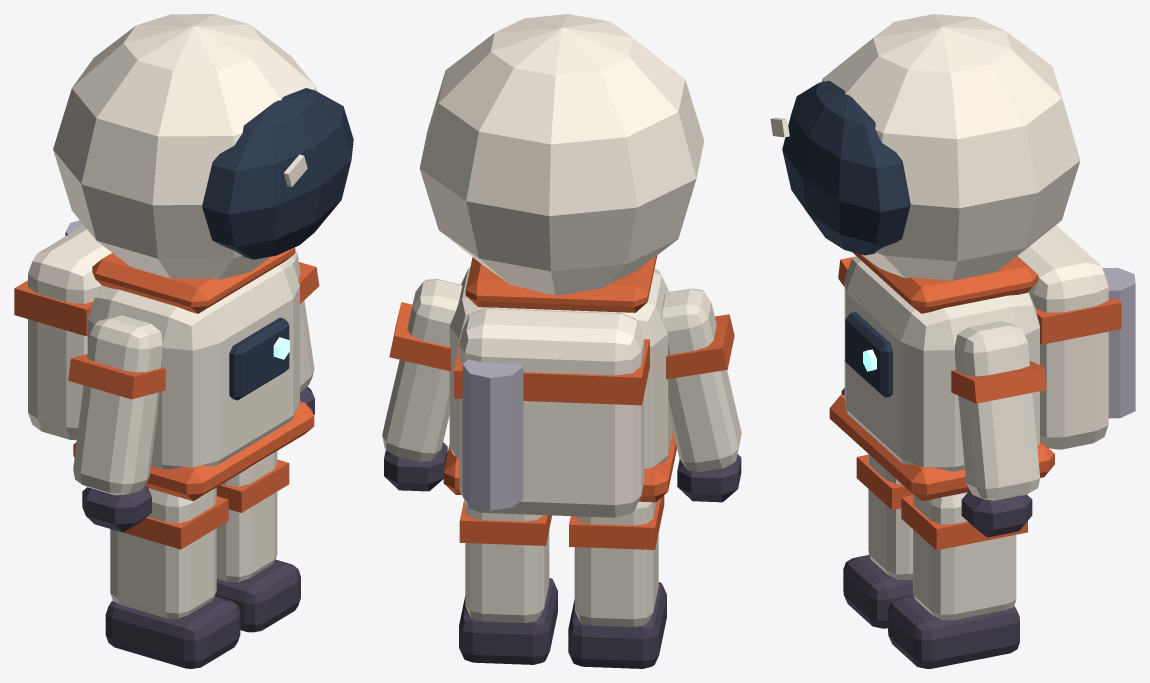
Rendered from MOONSHIFT_CHR_Crew_A.glb.
3 renders of one model, left to right at view 1: azimuth 30°, elevation 25°; view 2: azimuth 150°, elevation 25°; view 3: azimuth 270°, elevation 25°, orthographic. The views are drawn at different scales.
Parts seen in each view (by area): view 1: CrewA_Helmet, CrewA_Torso, CrewA_Visor, CrewA_Arm_L, CrewA_Backpack, CrewA_Leg_L, CrewA_Boot_L, CrewA_Leg_R, CrewA_Collar, CrewA_Belt, CrewA_Boot_R, CrewA_ChestPad (+7 smaller); view 2: CrewA_Helmet, CrewA_Backpack, CrewA_Arm_L, CrewA_Tank, CrewA_Arm_R, CrewA_Leg_L, CrewA_Leg_R, CrewA_Torso, CrewA_Collar, CrewA_Boot_L, CrewA_Boot_R, CrewA_BackpackStripe (+7 smaller); view 3: CrewA_Helmet, CrewA_Torso, CrewA_Visor, CrewA_Backpack, CrewA_Arm_R, CrewA_Leg_R, CrewA_Boot_R, CrewA_Collar, CrewA_Belt, CrewA_Tank, CrewA_Leg_L, CrewA_Boot_L (+6 smaller).
Part boxes in pixels (x1=…): CrewA_Helmet: x1=53, y1=14, x2=317, y2=279; CrewA_Torso: x1=87, y1=260, x2=299, y2=469; CrewA_Visor: x1=202, y1=88, x2=353, y2=259; CrewA_Arm_L: x1=73, y1=315, x2=162, y2=495; CrewA_Backpack: x1=28, y1=225, x2=111, y2=440; CrewA_Leg_L: x1=110, y1=487, x2=216, y2=618; CrewA_Boot_L: x1=105, y1=596, x2=240, y2=668; CrewA_Leg_R: x1=216, y1=451, x2=277, y2=582; CrewA_Collar: x1=92, y1=247, x2=295, y2=313; CrewA_Belt: x1=73, y1=401, x2=314, y2=501; CrewA_Boot_R: x1=215, y1=559, x2=300, y2=632; CrewA_ChestPad: x1=229, y1=317, x2=289, y2=400; CrewA_Helmet: x1=419, y1=14, x2=704, y2=295; CrewA_Backpack: x1=459, y1=308, x2=644, y2=517; CrewA_Arm_L: x1=661, y1=288, x2=741, y2=471; CrewA_Tank: x1=462, y1=359, x2=523, y2=510; CrewA_Arm_R: x1=382, y1=279, x2=461, y2=461; CrewA_Leg_L: x1=574, y1=501, x2=658, y2=627; CrewA_Leg_R: x1=465, y1=503, x2=549, y2=622; CrewA_Torso: x1=449, y1=267, x2=672, y2=468; CrewA_Collar: x1=465, y1=255, x2=657, y2=312; CrewA_Boot_L: x1=568, y1=582, x2=666, y2=668; CrewA_Boot_R: x1=459, y1=578, x2=557, y2=664; CrewA_BackpackStripe: x1=454, y1=333, x2=649, y2=405; CrewA_Helmet: x1=821, y1=14, x2=1080, y2=280; CrewA_Torso: x1=844, y1=256, x2=1039, y2=471; CrewA_Visor: x1=782, y1=80, x2=910, y2=255; CrewA_Backpack: x1=1018, y1=225, x2=1108, y2=449; CrewA_Arm_R: x1=954, y1=321, x2=1040, y2=500; CrewA_Leg_R: x1=913, y1=492, x2=1016, y2=620; CrewA_Boot_R: x1=888, y1=595, x2=1019, y2=668; CrewA_Collar: x1=852, y1=252, x2=1038, y2=313; CrewA_Belt: x1=829, y1=394, x2=1054, y2=501; CrewA_Tank: x1=1102, y1=267, x2=1135, y2=418; CrewA_Leg_L: x1=868, y1=454, x2=912, y2=579; CrewA_Boot_L: x1=843, y1=555, x2=913, y2=628.
Bounding box in the file's own units: 1.07 × 2.15 × 1.18.
